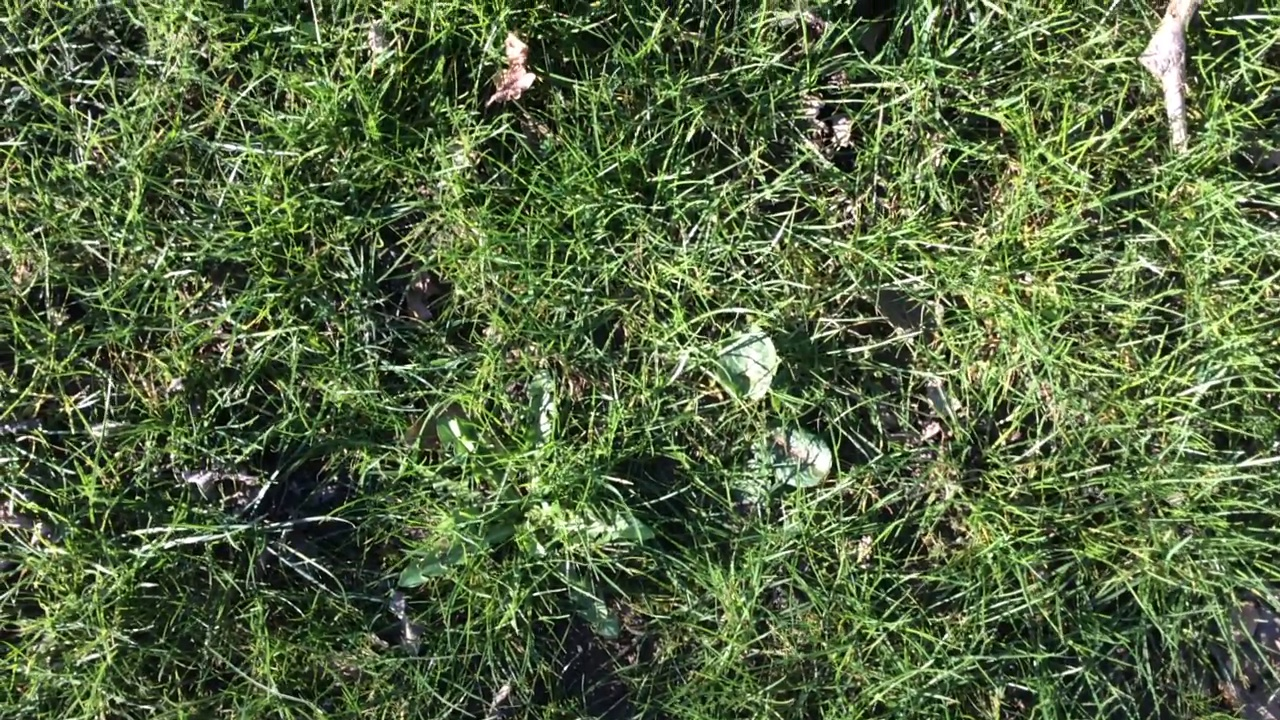rumex: (749, 431, 834, 489), (723, 326, 779, 400)
